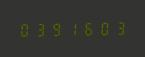nine: (49, 20, 64, 37)
one: (65, 20, 80, 36)
six: (81, 19, 96, 36)
three: (33, 20, 48, 37), (113, 19, 128, 36)
zero: (17, 20, 32, 37), (97, 19, 112, 36)
